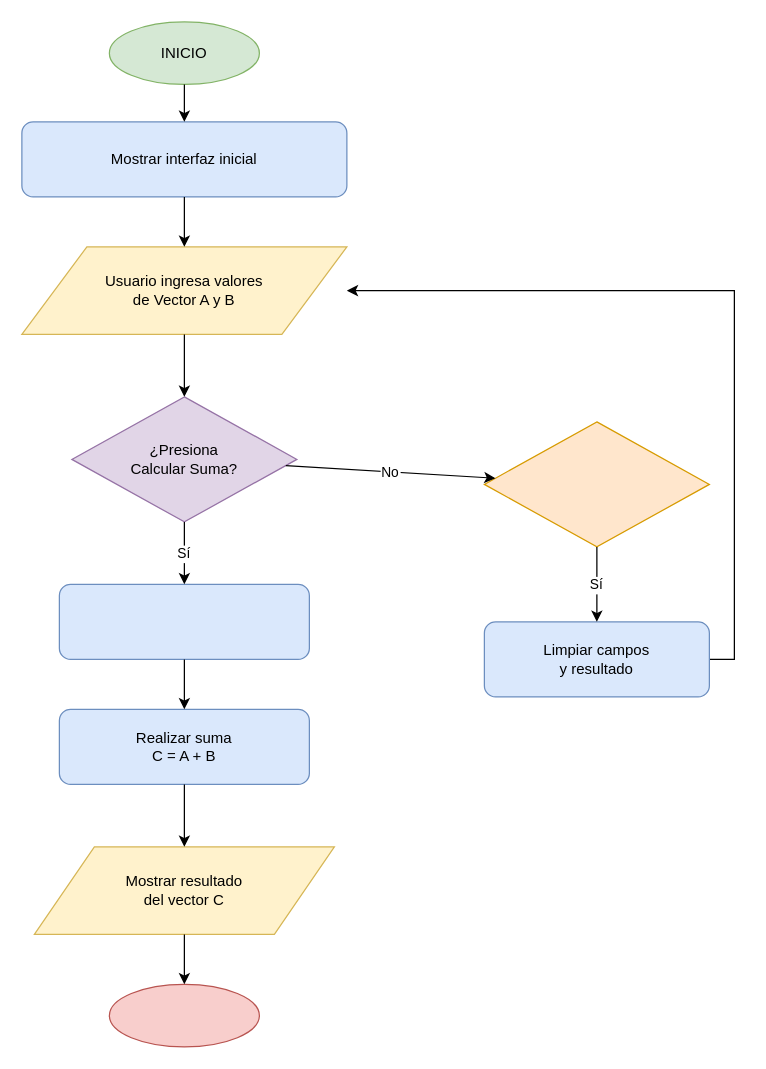
Image size: 766x1069. Some labels were removed from this diagram. Each missing label, with the centre of its shape:
"FIN" goes at point 183,1015.
"Obtener valores de A y B" goes at point 183,621.
"¿Presiona Limpiar?" goes at point 596,484.
